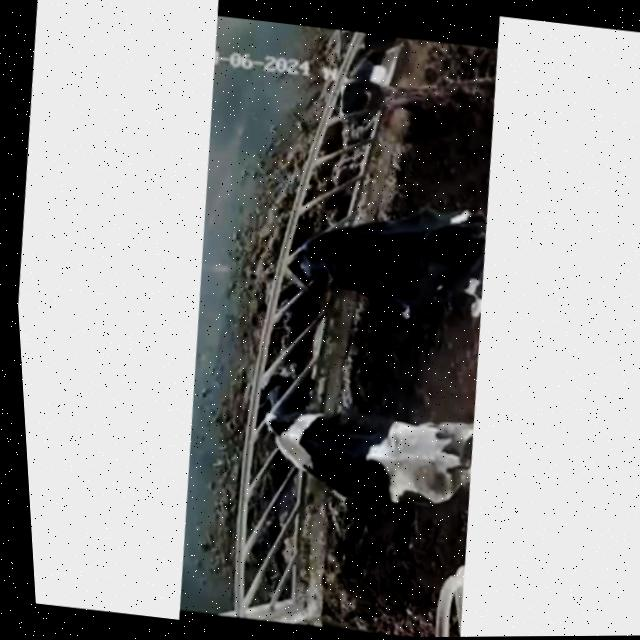eat: (196, 355, 363, 480), (235, 199, 383, 306)
